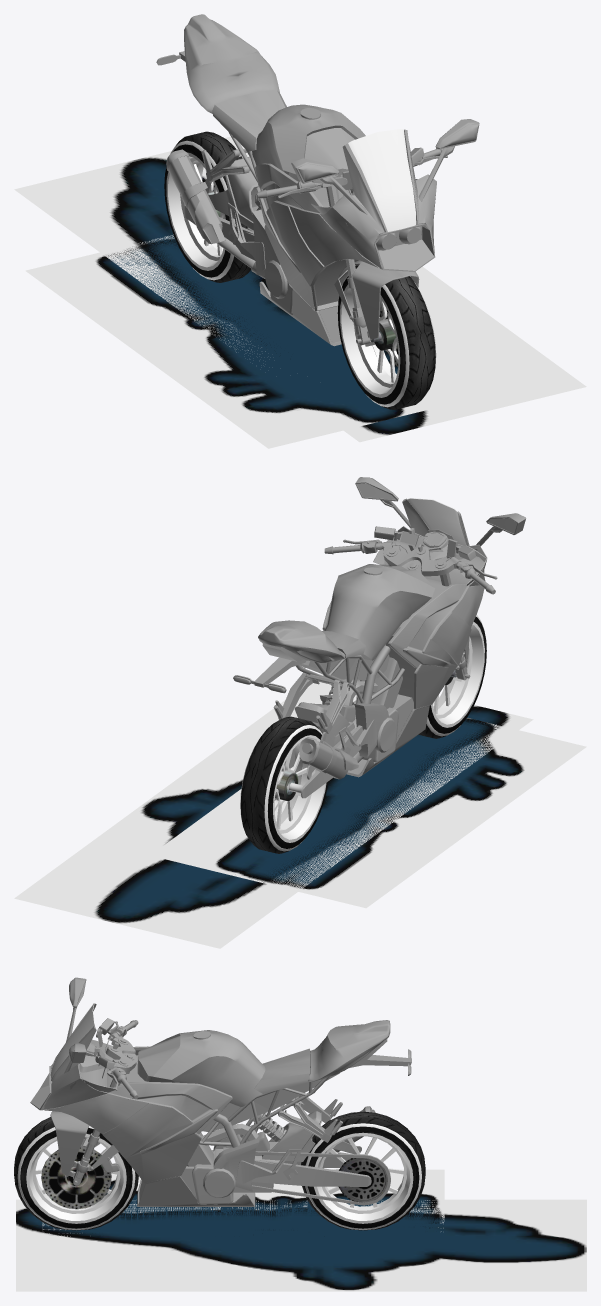
The model's file is bike6_28.fbx.
The picture shows the model from 3 angles, top to bottom: view 1: azimuth 30°, elevation 25°; view 2: azimuth 150°, elevation 25°; view 3: azimuth 270°, elevation 25°; orthographic projection. The views are drawn at different scales.
Visible parts, largest first — view 1: Shadow_DayLight_3, SpeedMeter_AI_3, Shadow_SunSet_3, Body_AI_3, Tyre_F_3, Counter_AI, Glass_AI_3, Rim_F_3, Tyre_B_3, Rim_B_3; view 2: Shadow_DayLight_3, Shadow_SunSet_3, SpeedMeter_AI_3, Body_AI_3, Tyre_B_3, Counter_AI, Rim_B_3, Rim_F_3, Glass_AI_3, Tyre_F_3, Mirror_AI_3; view 3: Shadow_SunSet_3, SpeedMeter_AI_3, Body_AI_3, Shadow_DayLight_3, Rim_F_3, Rim_B_3, Counter_AI, Tyre_B_3, Tyre_F_3, Glass_AI_3.
Part boxes in pixels (x1,y1,x2,y2): Shadow_DayLight_3: (25,234,506,448); SpeedMeter_AI_3: (156,14,479,345); Shadow_SunSet_3: (14,136,586,442); Body_AI_3: (228,104,434,346); Tyre_F_3: (337,265,436,409); Counter_AI: (257,147,447,345); Glass_AI_3: (348,129,416,231); Rim_F_3: (340,284,400,397); Tyre_B_3: (164,131,250,282); Rim_B_3: (166,152,225,270); Shadow_DayLight_3: (150,718,586,908); Shadow_SunSet_3: (14,674,533,948); SpeedMeter_AI_3: (233,477,526,800); Body_AI_3: (295,564,484,777); Tyre_B_3: (240,716,328,853); Counter_AI: (324,526,497,680); Rim_B_3: (273,735,326,842); Rim_F_3: (431,622,484,727); Glass_AI_3: (407,498,466,546); Tyre_F_3: (418,614,486,738); Mirror_AI_3: (357,483,517,533); Shadow_SunSet_3: (16,1199,586,1291); SpeedMeter_AI_3: (30,977,411,1206); Body_AI_3: (44,1030,329,1206); Shadow_DayLight_3: (42,1169,444,1236); Rim_F_3: (26,1133,126,1223); Rim_B_3: (314,1132,413,1223); Counter_AI: (50,1018,138,1185); Tyre_B_3: (301,1111,425,1230); Tyre_F_3: (14,1117,138,1230); Glass_AI_3: (50,1003,94,1078).
Size of the model in its own units: 152 by 127 by 302.
